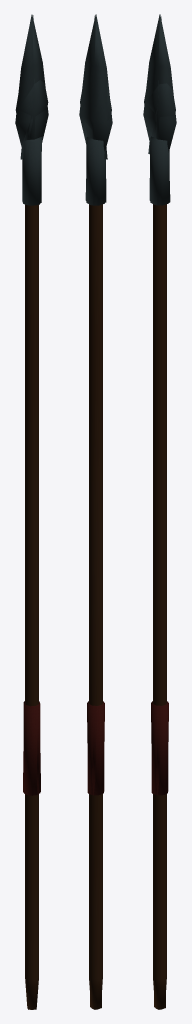
The picture shows the model from 3 angles, left to right: view 1: azimuth 30°, elevation 25°; view 2: azimuth 150°, elevation 25°; view 3: azimuth 330°, elevation 25°; orthographic projection.
Visible parts, largest first — view 1: body_lod1, body_lod2, body_lod3; view 2: body_lod1, body_lod2, body_lod3; view 3: body_lod1, body_lod2, body_lod3.
Boxes of the visible parts, bbox=[...] form: body_lod1: bbox=[15, 14, 48, 1009]; body_lod2: bbox=[15, 80, 48, 1003]; body_lod3: bbox=[20, 15, 42, 1009]; body_lod1: bbox=[79, 14, 112, 1009]; body_lod2: bbox=[80, 16, 111, 1003]; body_lod3: bbox=[90, 16, 107, 1009]; body_lod1: bbox=[143, 14, 176, 1009]; body_lod2: bbox=[144, 83, 175, 1003]; body_lod3: bbox=[148, 16, 170, 1009].
Size of the model in its own units: 11 by 313 by 5.8.
Materials: 3 (3 with a texture image).
